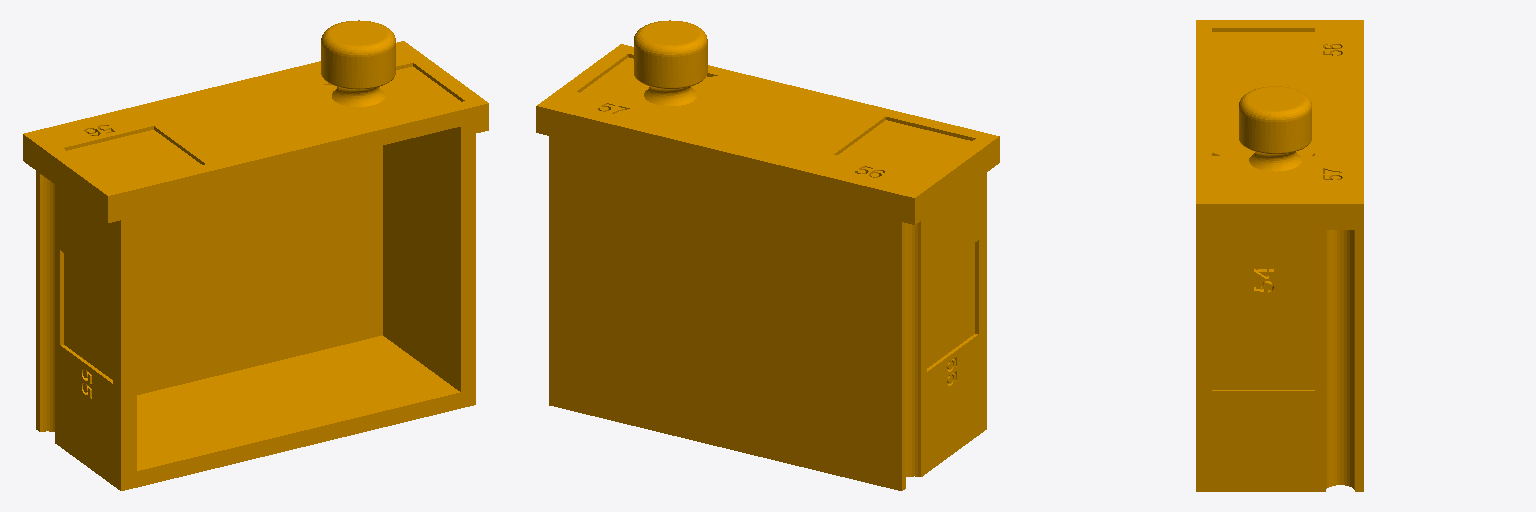
URDF robot description (drawer_top_1):
<?xml version="1.0"?>
<robot name="drawer_top_1">
    <link name="drawer_top_1">
        <visual>
            <geometry>
                <mesh filename="../../mesh/drawer/drawer_top_1.obj" scale="1 1 1"/>
            </geometry>
        </visual>
        <collision>
            <geometry>
                <mesh filename="../../mesh/drawer/drawer_top_1.obj" scale="1 1 1"/>
            </geometry>
            <sdf resolution="512"/>
        </collision>
    </link>
</robot>

--- Facts derived from the render (not from the file) ---
3 views of the same robot in one strip: view 1: azimuth 30°, elevation 25°; view 2: azimuth 150°, elevation 25°; view 3: azimuth 270°, elevation 25° (orthographic).
Robot: drawer_top_1 — 1 links, 0 joints (none); root link drawer_top_1; default pose: all joints at 0.
Links seen in each view (by area): view 1: drawer_top_1; view 2: drawer_top_1; view 3: drawer_top_1.
Link boxes in pixels (x1,y1,x2,y2): drawer_top_1: (23, 20, 488, 490); drawer_top_1: (536, 20, 999, 490); drawer_top_1: (1196, 20, 1363, 491).
Bounding box of the posed robot: 0.1103 × 0.0428 × 0.0997 m (x, y, z).
Meshes: 1 distinct files referenced, 1 mesh visuals loaded (1 OBJ).